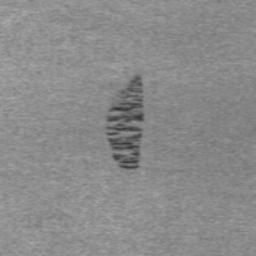Secondary rust skin: (105, 74, 145, 171)
